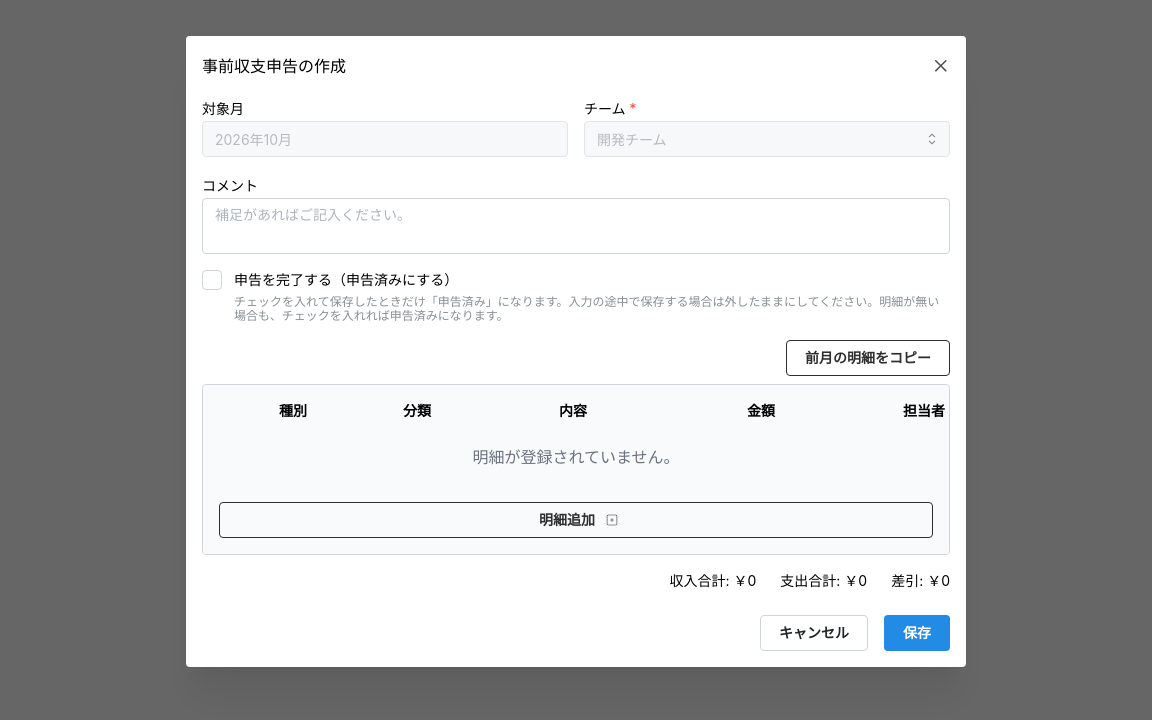
BudgetDeclarationForm › 前月の明細をコピー › 既に明細行がある状態で押すと追記の確認ダイアログを出し、承諾すると末尾に追加する
What coordinates should you click on to do the following:
click the button "明細追加"
I would click on:
 (576, 520)
Its box is [219,502,933,538].
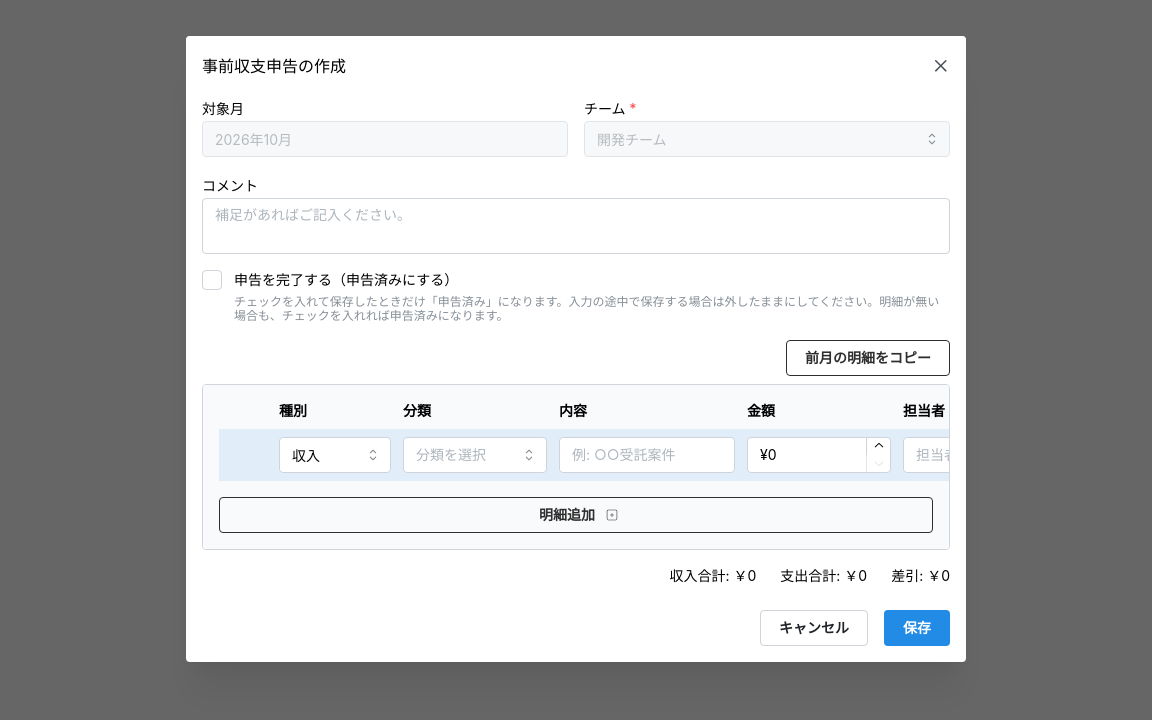
What coordinates should you click on to do the following:
click the button "前月の明細をコピー"
I would click on:
 (868, 358)
Its box is [786,340,950,376].
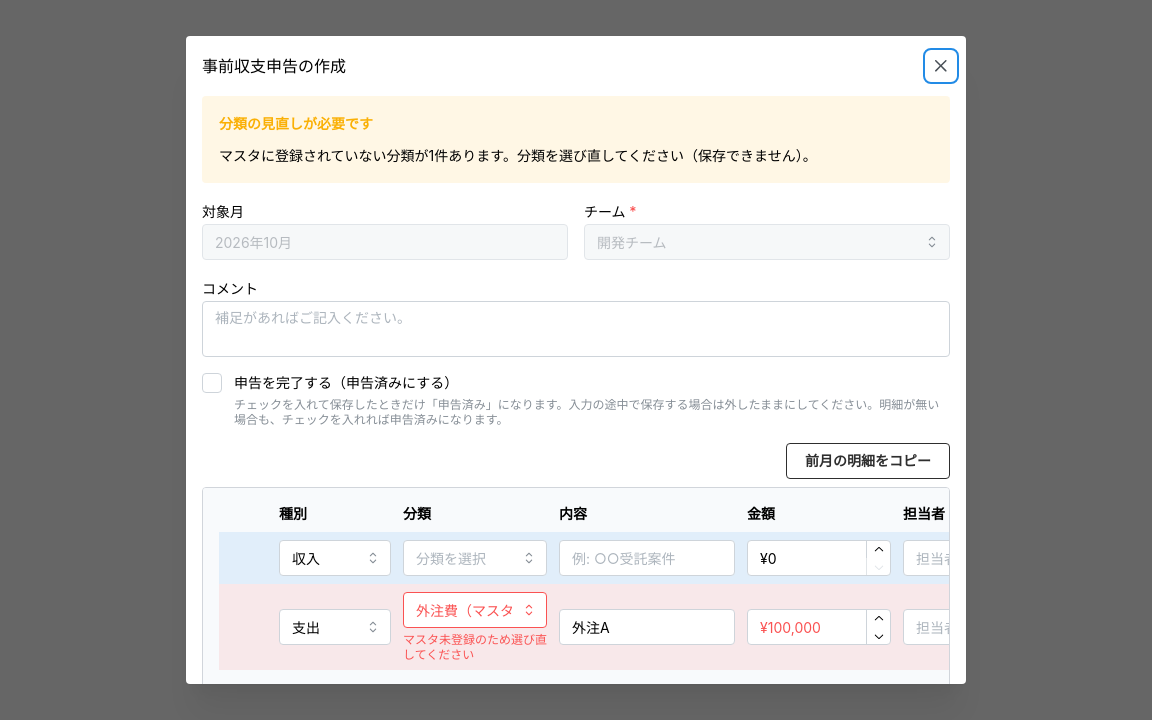
Expected: the 5th field showing "外注A" is shown, [559,609,735,645]
